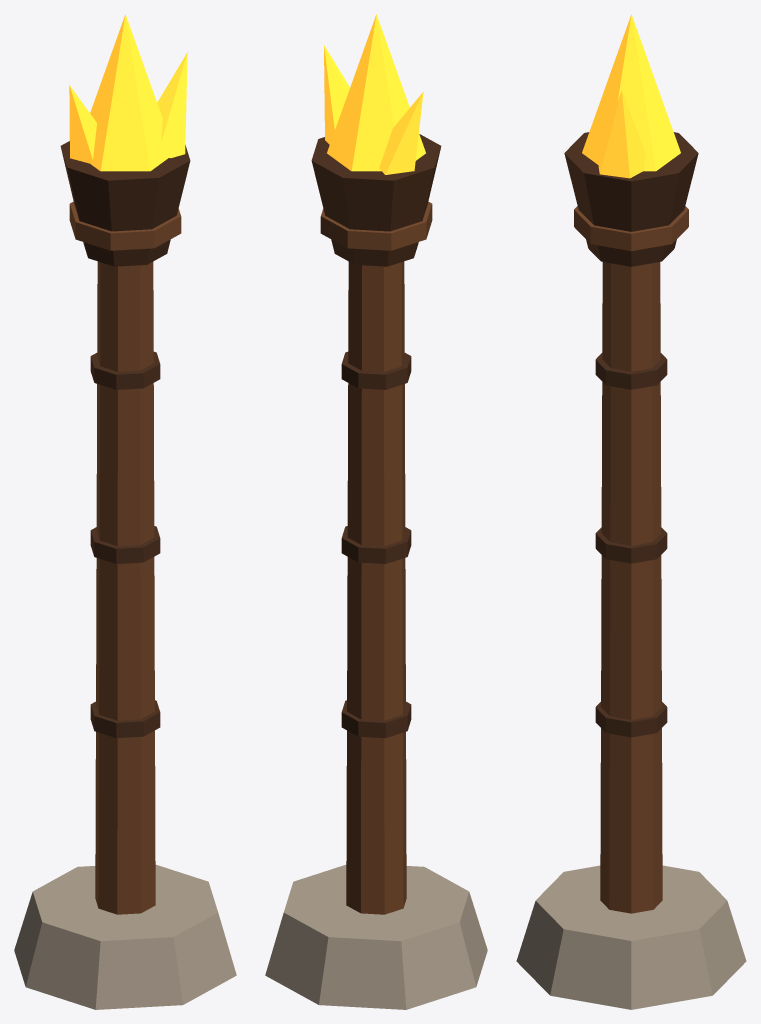
Rendered from tiang_obor_v001.glb.
3 renders of one model, left to right at view 1: azimuth 30°, elevation 25°; view 2: azimuth 150°, elevation 25°; view 3: azimuth 270°, elevation 25°, orthographic.
Parts seen in each view (by area): view 1: Tiang_Obor, Api; view 2: Tiang_Obor, Api; view 3: Tiang_Obor, Api.
Boxes of the visible parts, box(x1,y1,x2,y2) form: Tiang_Obor: box(14, 141, 236, 1009); Api: box(69, 14, 187, 171); Tiang_Obor: box(265, 134, 487, 1009); Api: box(324, 14, 425, 174); Tiang_Obor: box(516, 132, 746, 1009); Api: box(582, 14, 680, 178).
Bounding box in the file's own units: 0.48 × 2.18 × 0.48.
